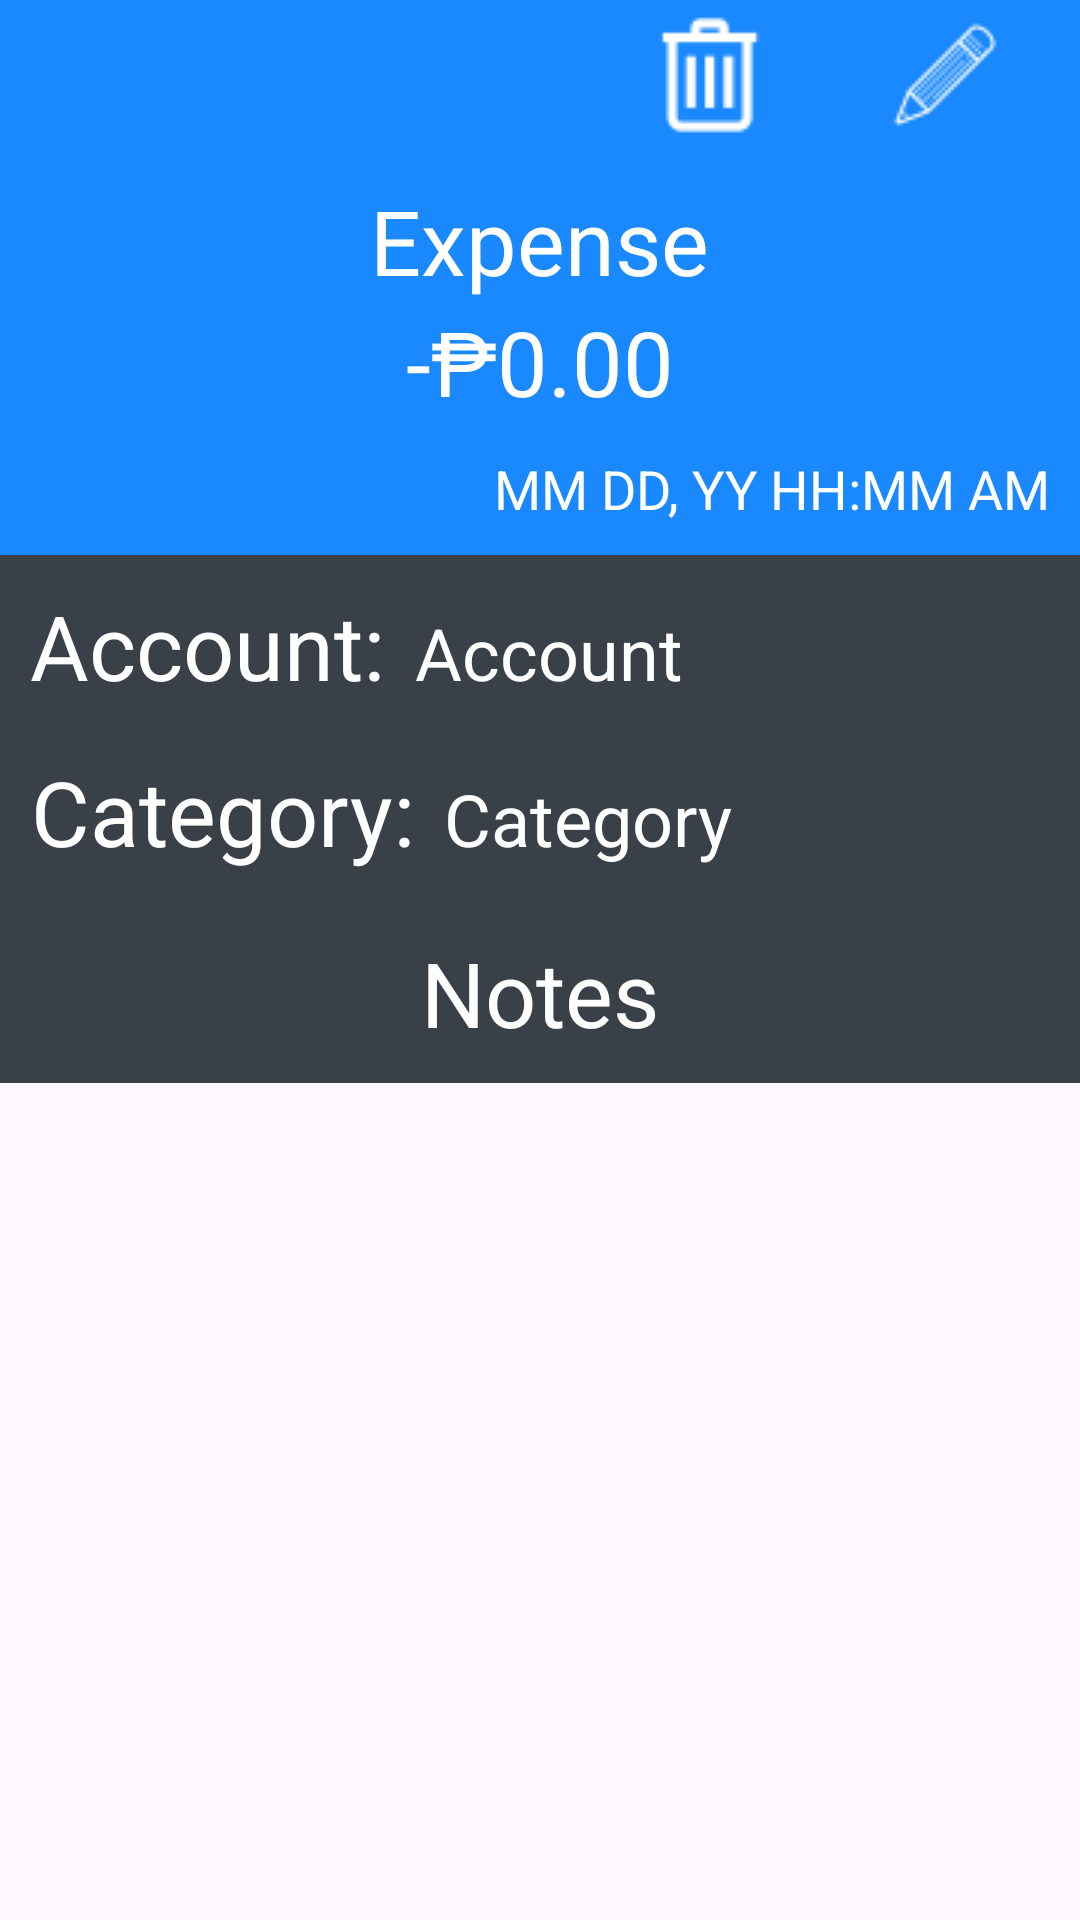

Icons on this 1080w x 1920h Android screen, each with its box as (left=x1, top=y1, right=x2, bottom=y2):
Delete Button: (left=662, top=17, right=759, bottom=133)
Edit Button: (left=893, top=23, right=997, bottom=127)
